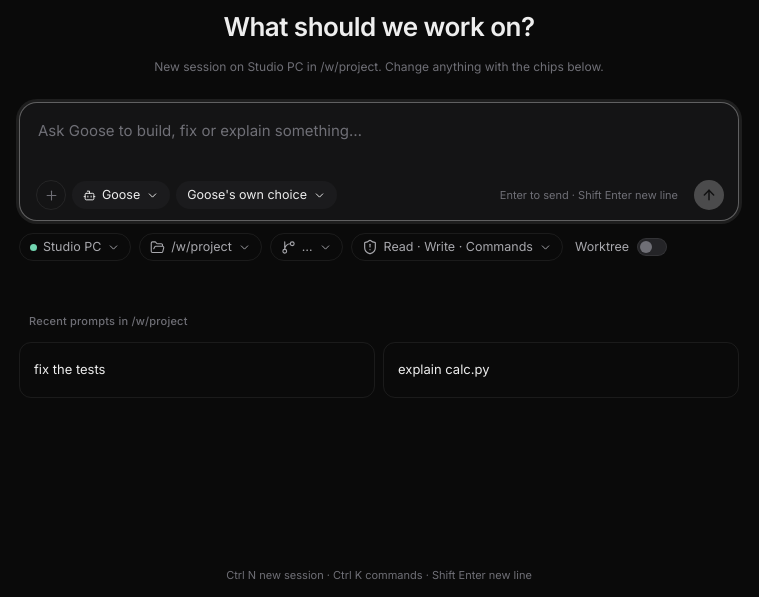
Scenario: send › a failed start returns to the composer, keeps the text and shows the error
Type "keep me" into the text box named "Prompt for the new session" at (380, 143), box [36, 117, 724, 169]
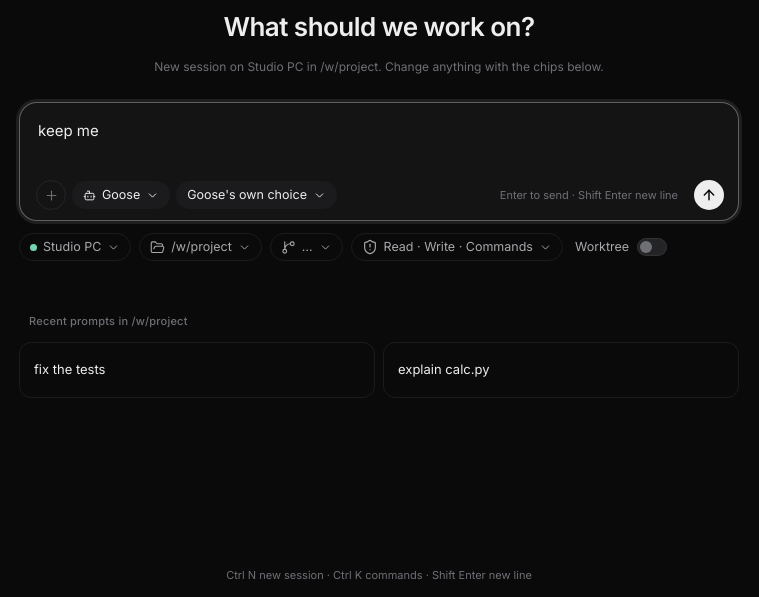
Press Enter in the text box named "Prompt for the new session", box [36, 117, 724, 169]
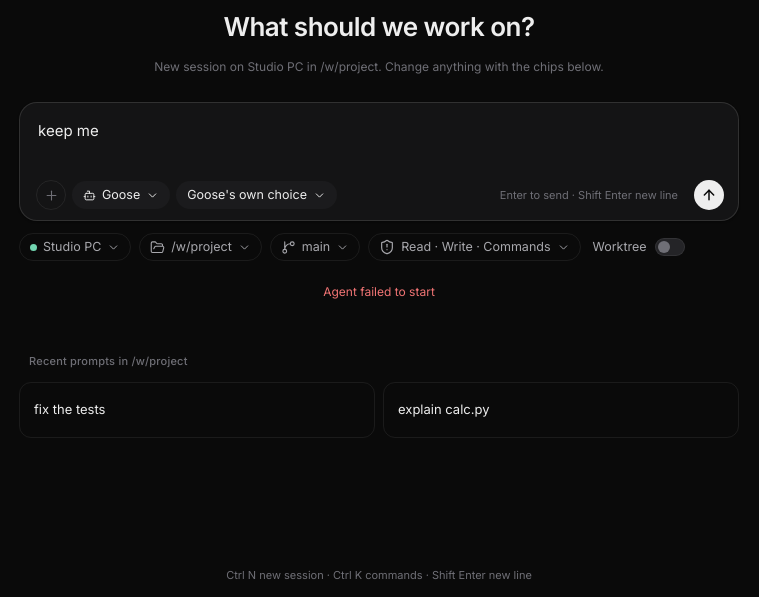
expect the text box named "Prompt for the new session" holds "keep me": met, box [36, 117, 724, 169]
expect the message reads "Agent failed to start": met, box [323, 284, 435, 299]
